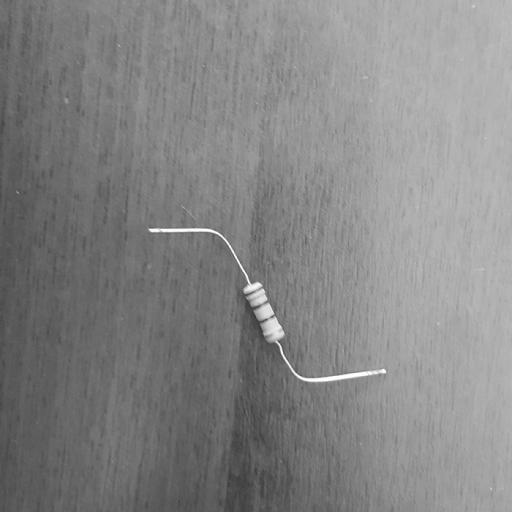RESISTOR: (214, 238, 348, 402)
